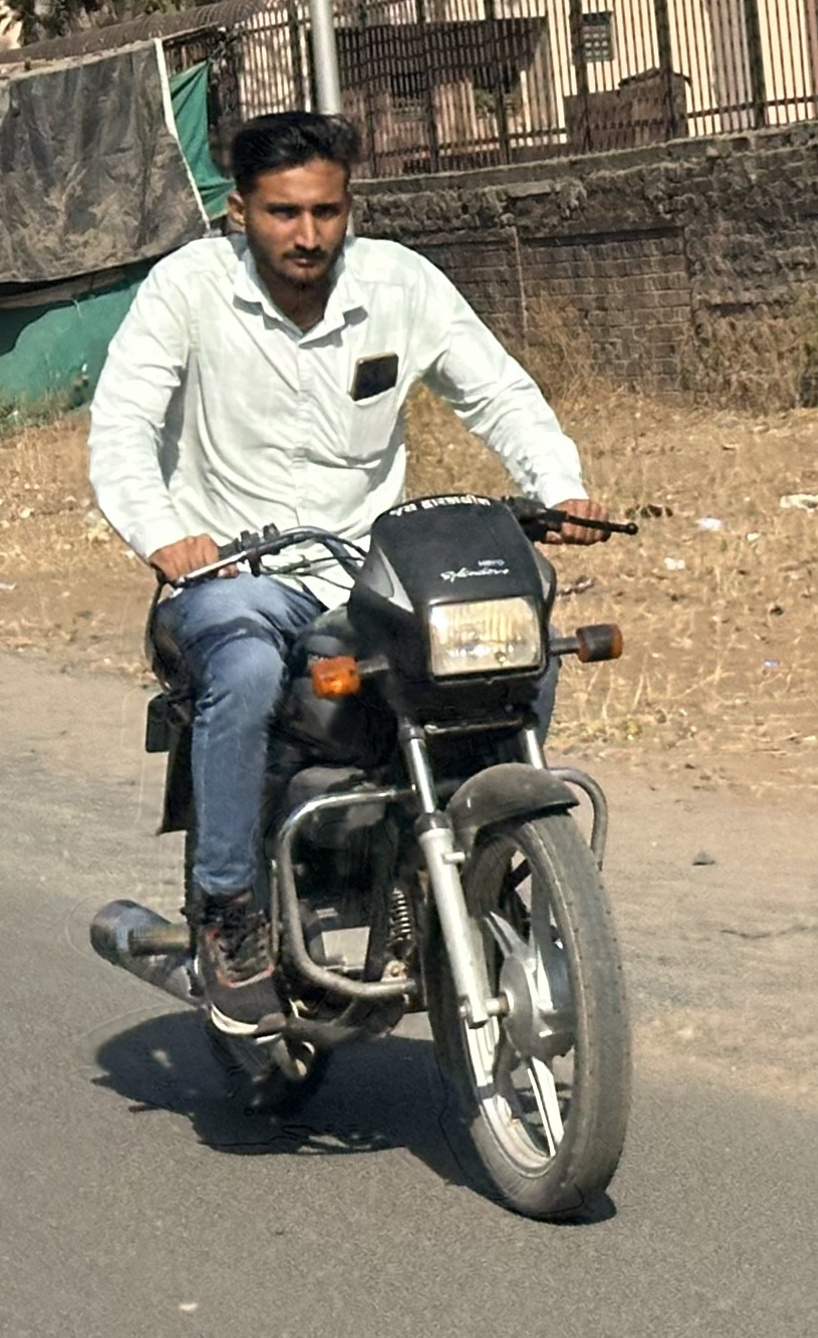BikeWithRider: (66, 95, 660, 1232)
NoHelmet: (204, 99, 381, 297)
